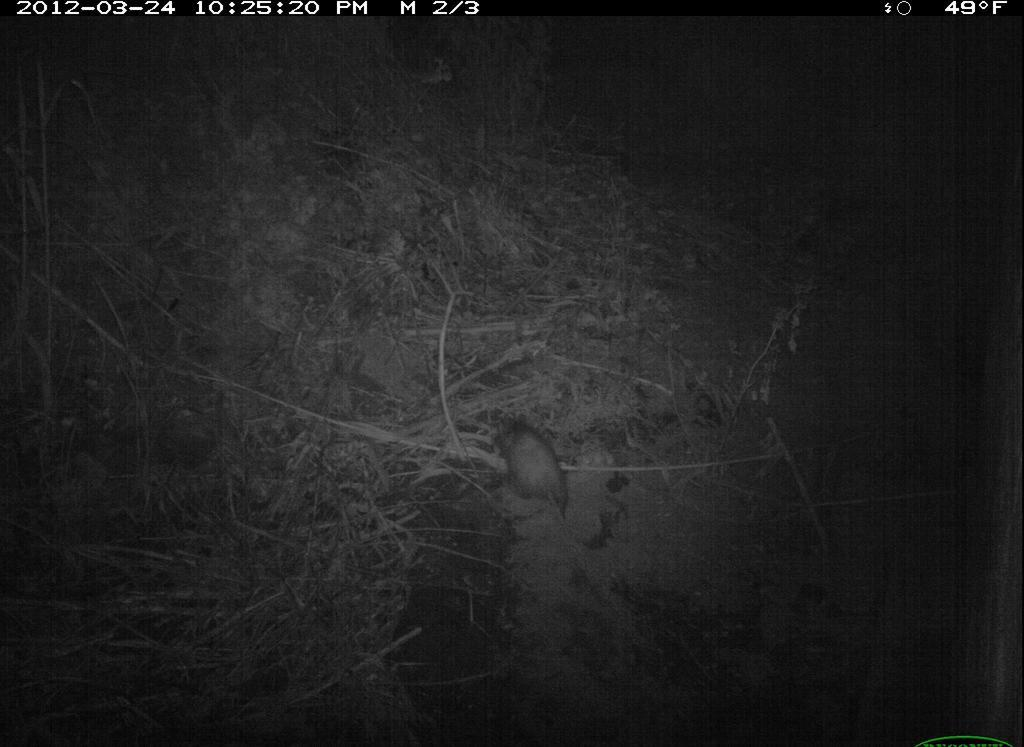opossum: (486, 405, 582, 541)
